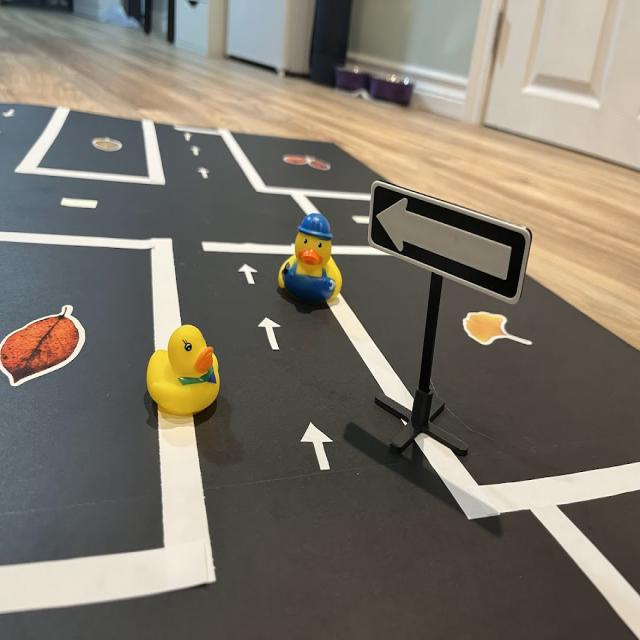duck_regular: (147, 325, 222, 419)
duck_specialty: (276, 210, 343, 315)
road_oneway: (293, 411, 346, 481), (257, 312, 285, 360), (235, 258, 260, 293), (197, 163, 213, 185), (192, 141, 203, 160), (184, 128, 193, 144)
sign_oneway_left: (368, 181, 535, 306)
